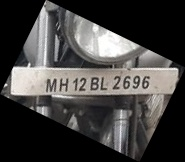character: (45, 77, 56, 93), (58, 77, 69, 91), (89, 76, 99, 91), (112, 75, 121, 90), (122, 75, 131, 89), (131, 75, 140, 89), (141, 75, 150, 89), (99, 76, 107, 91), (78, 77, 86, 91), (71, 77, 78, 91)
